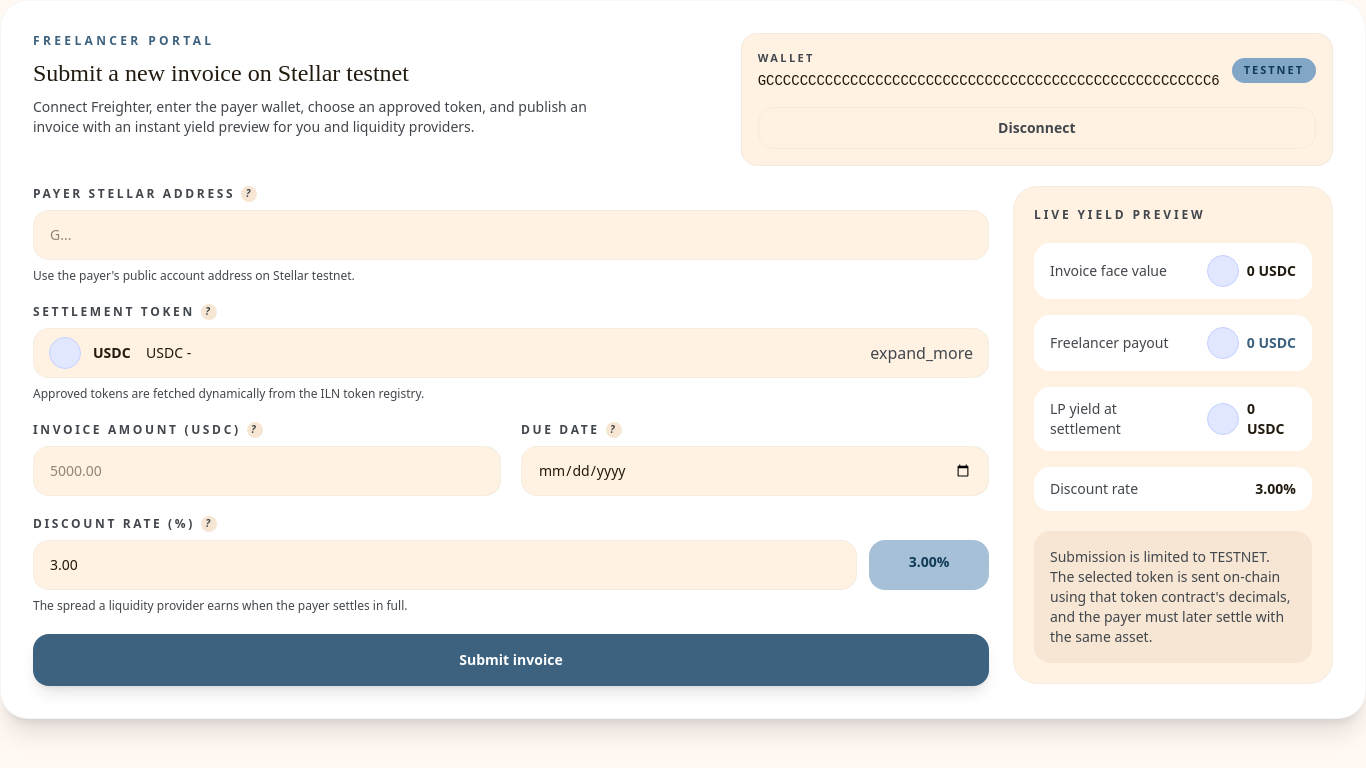
Test case: SubmitInvoiceForm › rejects a zero invoice amount
The width and height of the screenshot is (1366, 768).
Type "0" into the field with placeholder "5000.00" at coordinates (267, 470), box left=33, top=446, right=501, bottom=496
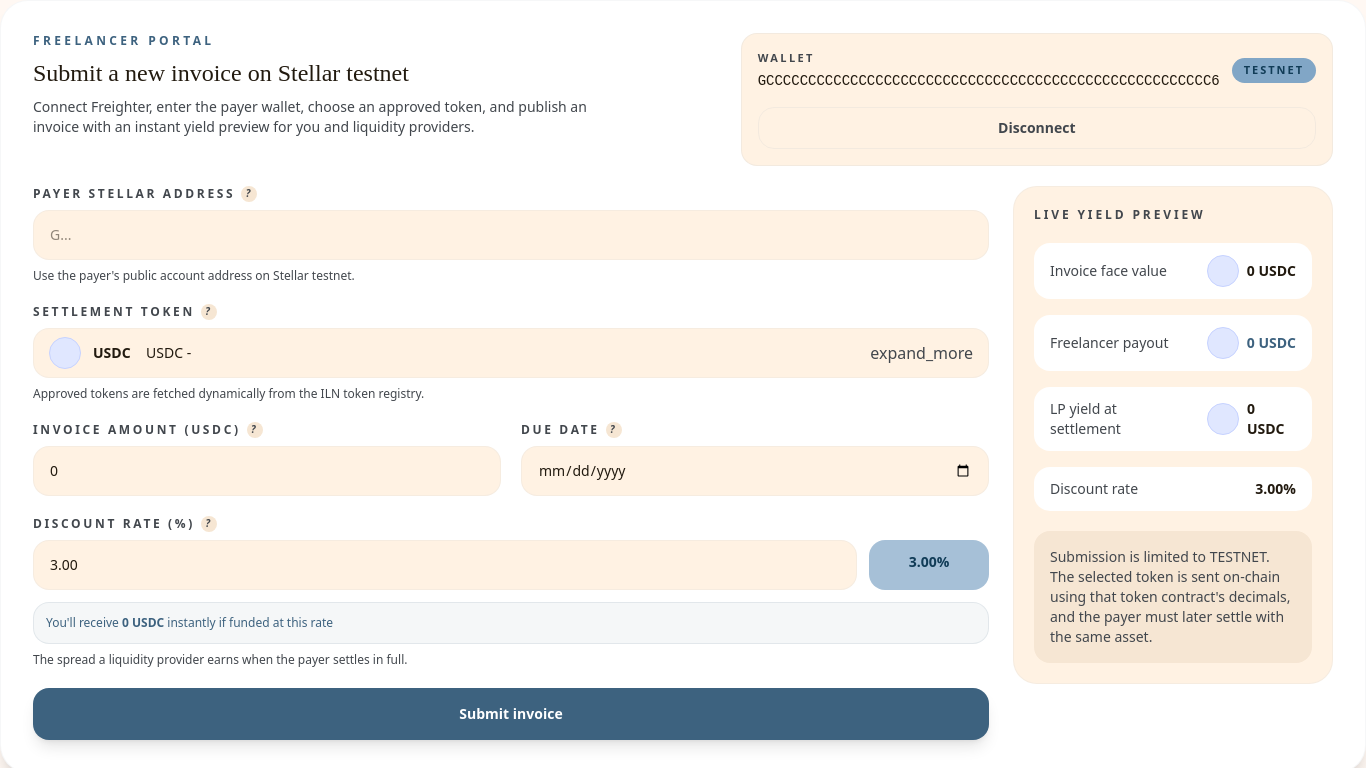
Click the button "Submit invoice" at coordinates (511, 714), box left=33, top=688, right=989, bottom=740
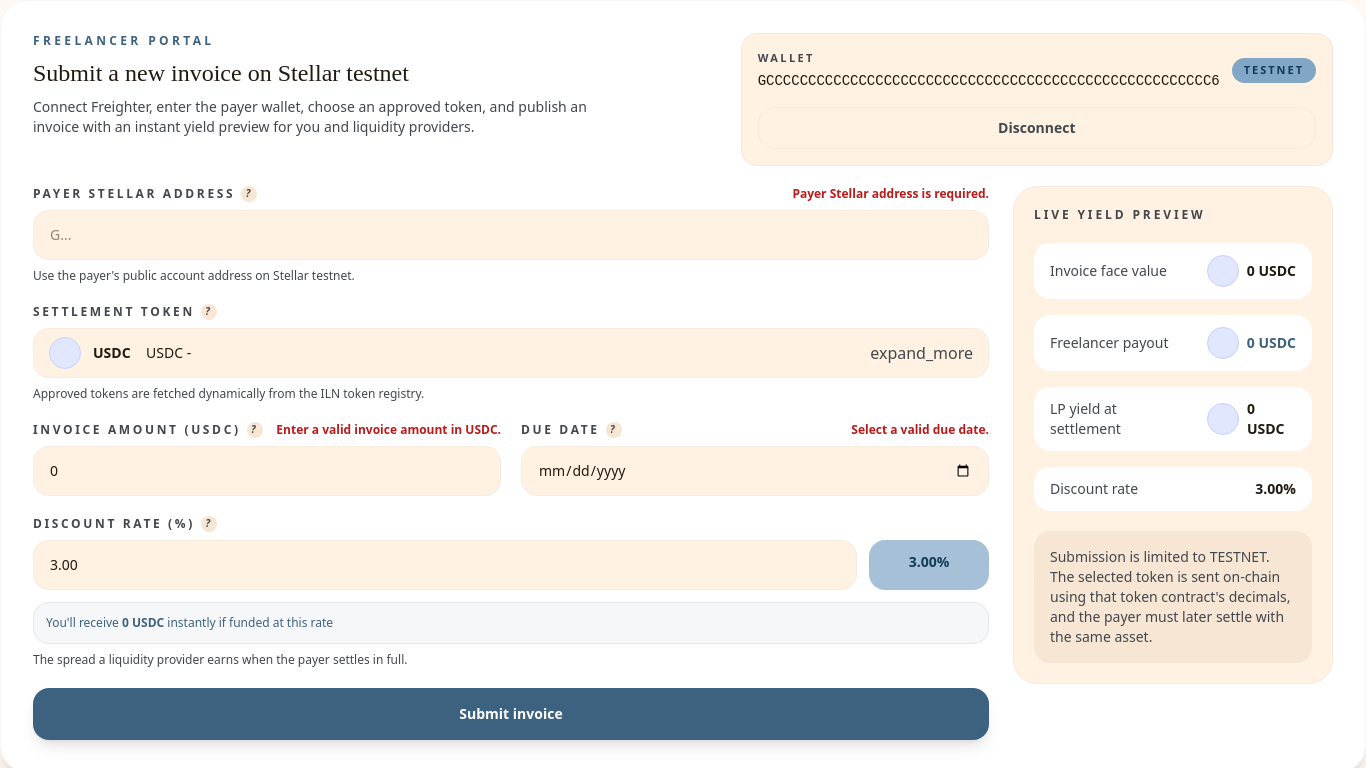
Check: the text "Enter a valid invoice amount in USDC." is shown, box left=276, top=422, right=501, bottom=438
